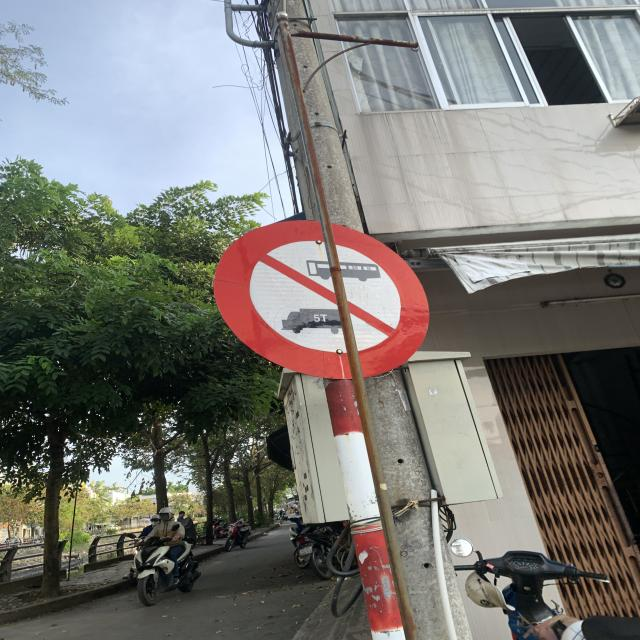Cam_XeTai_XeKhach: (216, 219, 435, 374)
